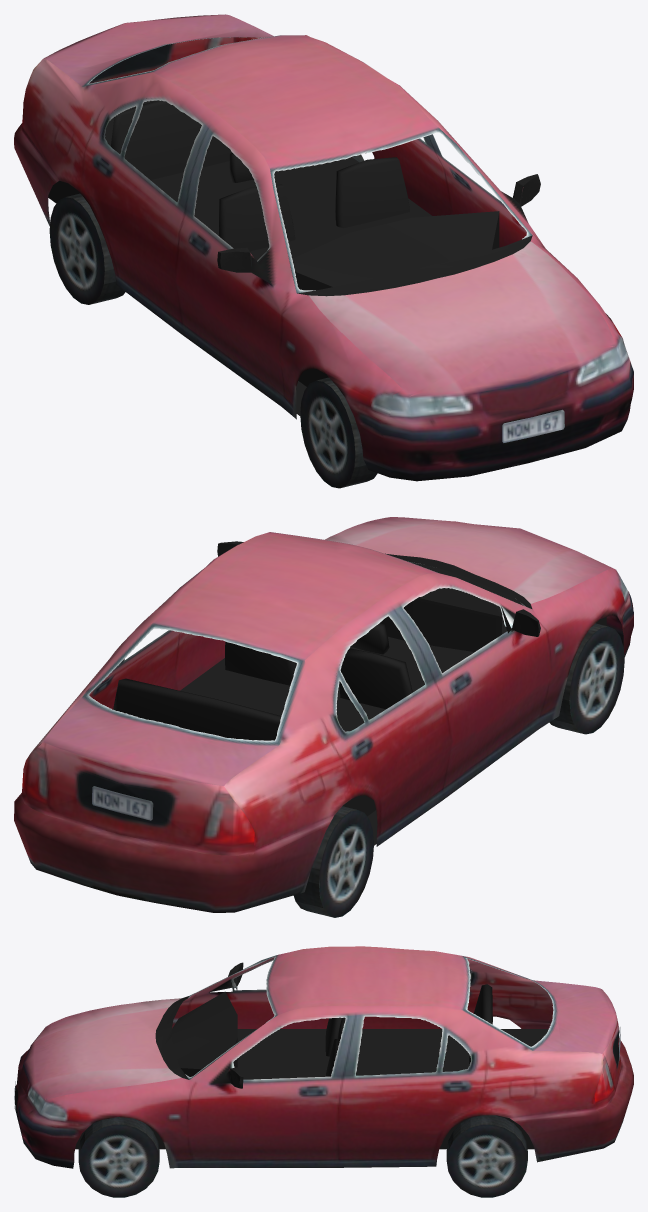
File: lwpg012.obj
3 views of the same model, one above another, from view 1: azimuth 30°, elevation 25°; view 2: azimuth 150°, elevation 25°; view 3: azimuth 270°, elevation 25° (orthographic). The views are drawn at different scales.
Parts seen in each view (by area): view 1: lwpg012; view 2: lwpg012; view 3: lwpg012.
Boxes of the visible parts, <box> form: lwpg012: <box>14,14,633,488</box>; lwpg012: <box>14,517,633,917</box>; lwpg012: <box>14,946,633,1197</box>.
Size of the model in its own units: 2.08 by 1.49 by 4.73.
2 materials, 1 textured.
